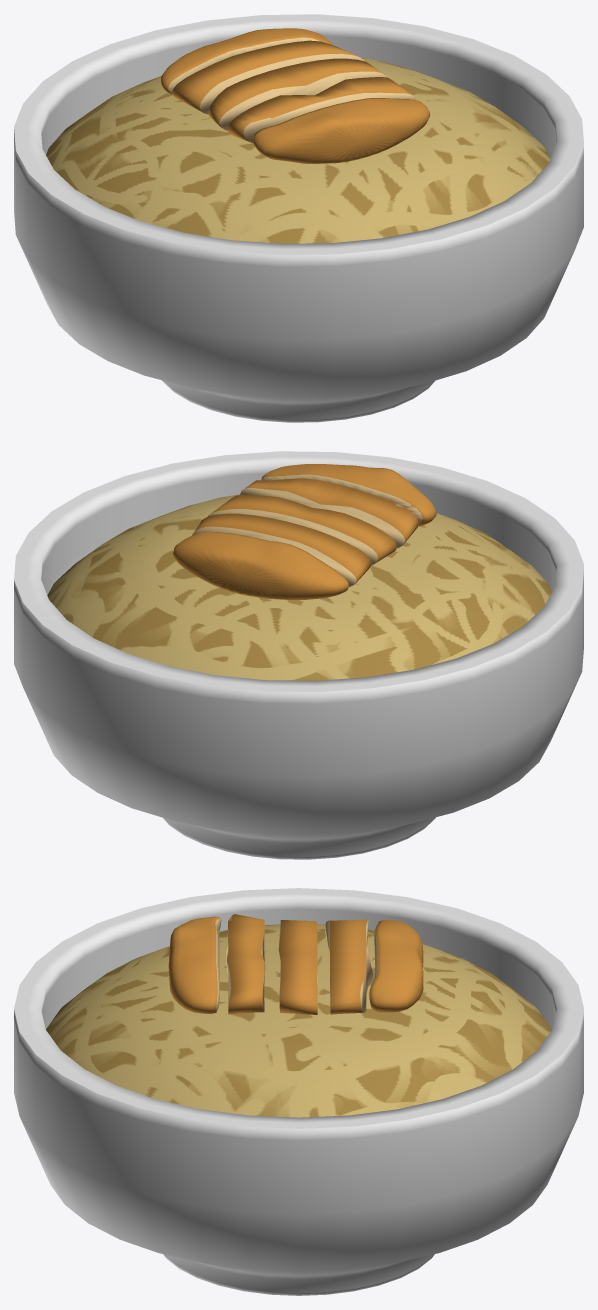
Rendered from ChickenAlfredo.fbx.
The picture shows the model from 3 angles, top to bottom: view 1: azimuth 30°, elevation 25°; view 2: azimuth 150°, elevation 25°; view 3: azimuth 270°, elevation 25°; orthographic projection.
Visible parts, largest first — view 1: AlfBowl.001, Noodles, Alfchicken; view 2: AlfBowl.001, Noodles, Alfchicken; view 3: AlfBowl.001, Noodles, Alfchicken.
Part boxes in pixels (x1,y1,x2,y2): AlfBowl.001: (14, 14, 583, 422); Noodles: (46, 58, 550, 243); Alfchicken: (161, 28, 430, 163); AlfBowl.001: (14, 451, 583, 859); Noodles: (47, 494, 551, 680); Alfchicken: (173, 464, 436, 599); AlfBowl.001: (14, 888, 583, 1295); Noodles: (46, 924, 551, 1117); Alfchicken: (168, 914, 423, 1014).
Bounding box in the file's own units: 66.75 × 37.69 × 66.75.
Materials: 3 (2 with a texture image).
